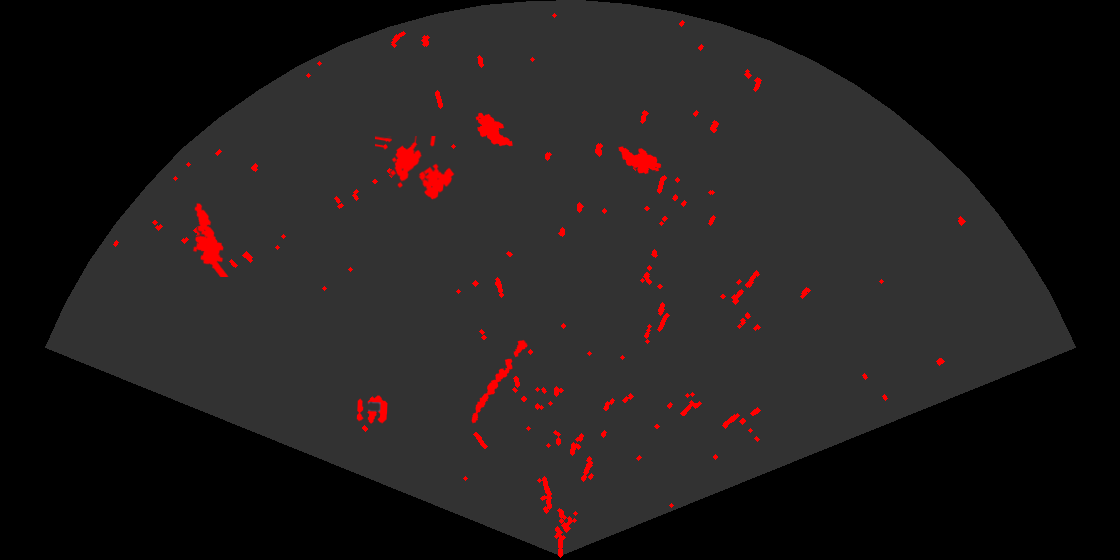AUV: (474, 111, 514, 148), (617, 145, 663, 176)
ball: (355, 394, 389, 425)
cage: (375, 136, 456, 201)
chain: (470, 338, 529, 425)
frogman: (191, 201, 230, 277)
